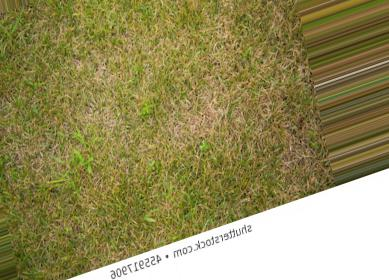patch: (94, 105, 128, 140), (188, 102, 220, 128)
